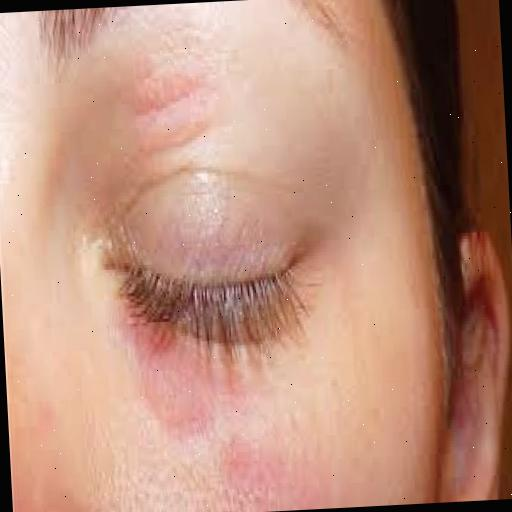Skin_Lesion: (218, 437, 264, 491), (140, 330, 182, 388), (172, 392, 212, 439), (212, 354, 250, 398), (30, 396, 60, 440), (136, 72, 162, 108)
